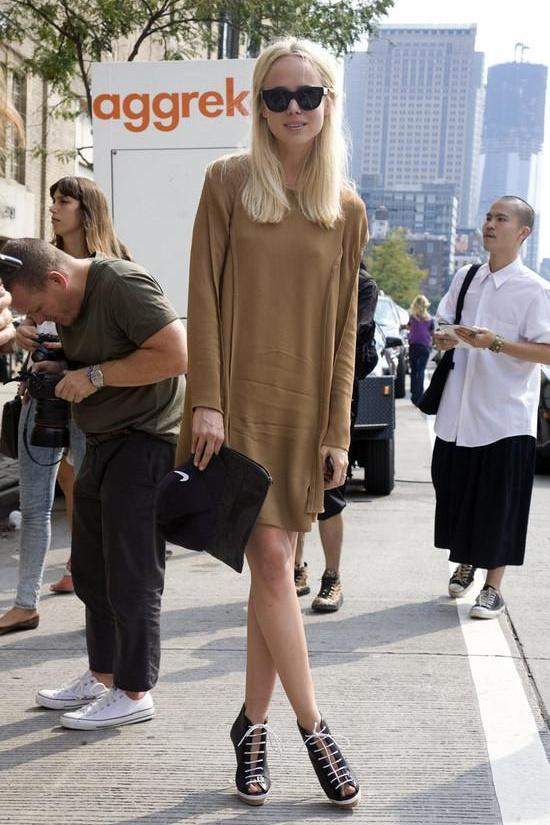Tshirt: (51, 249, 188, 434)
dress: (180, 150, 366, 532)
pants: (70, 417, 174, 690), (431, 423, 534, 566)
shirt: (431, 260, 550, 449)
